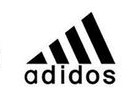adidas Fake: (21, 10, 119, 87)
